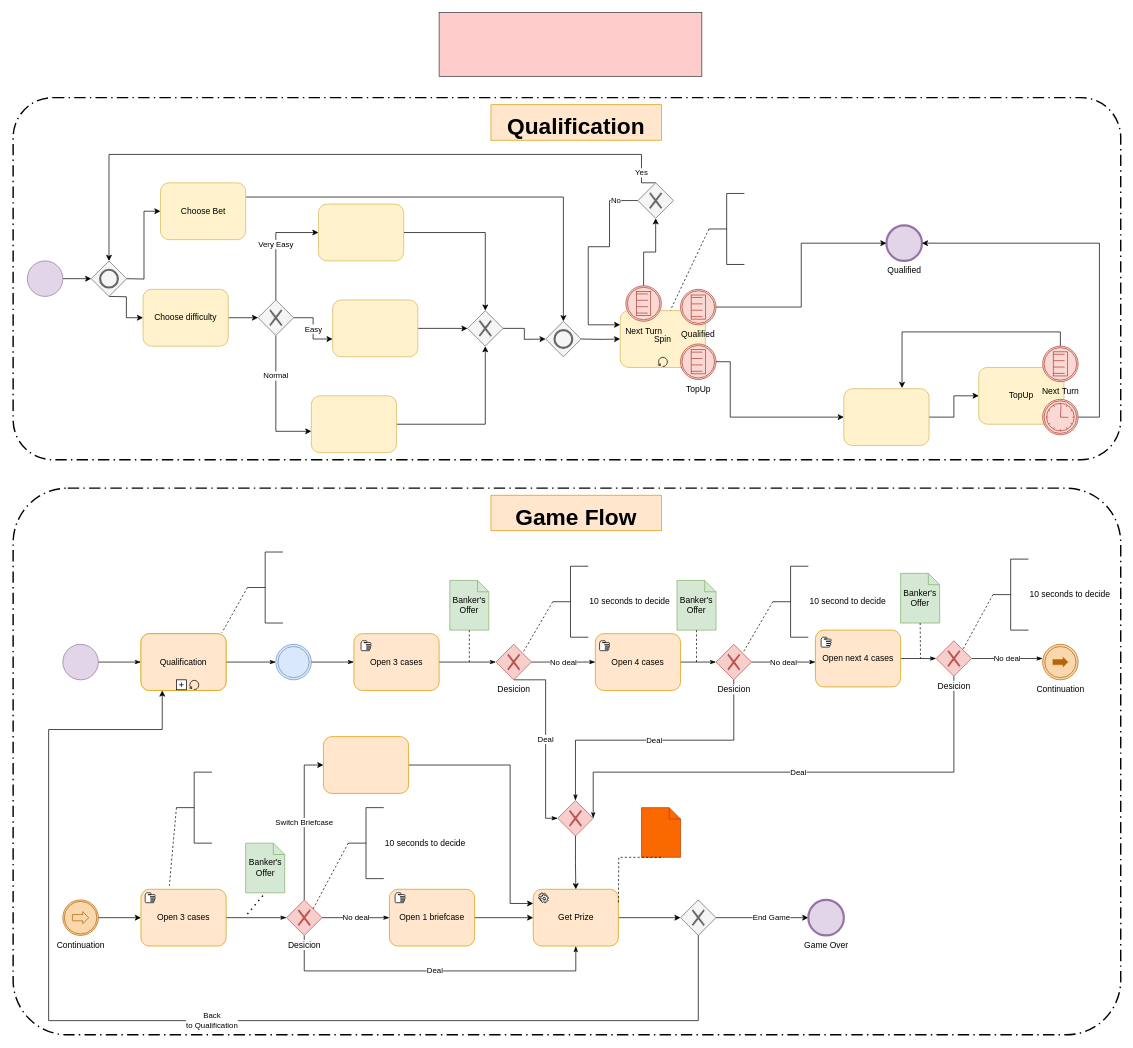
The diagram is 1133 pixels wide and 1048 high, and some of its shapes have lost their labels. The centre of each missing label's shape, as x and y in pixels:
Choose briefcase: [886,417]
Continue: [698,917]
Deal or NoDeal: [570,44]
Game starts: [80,662]
Need to change options: [655,200]
Only 2 cases left: [194,807]
Option to add more money: [265,587]
Qualification starts: [45,278]
Set Easy: [375,328]
Set Normal: [354,424]
Set Very Easy: [361,232]
Show starts: [293,662]
Switch briefcases: [366,764]
The winning amount: [661,832]
Time's up: [1060,417]
Until qualified: [726,228]
